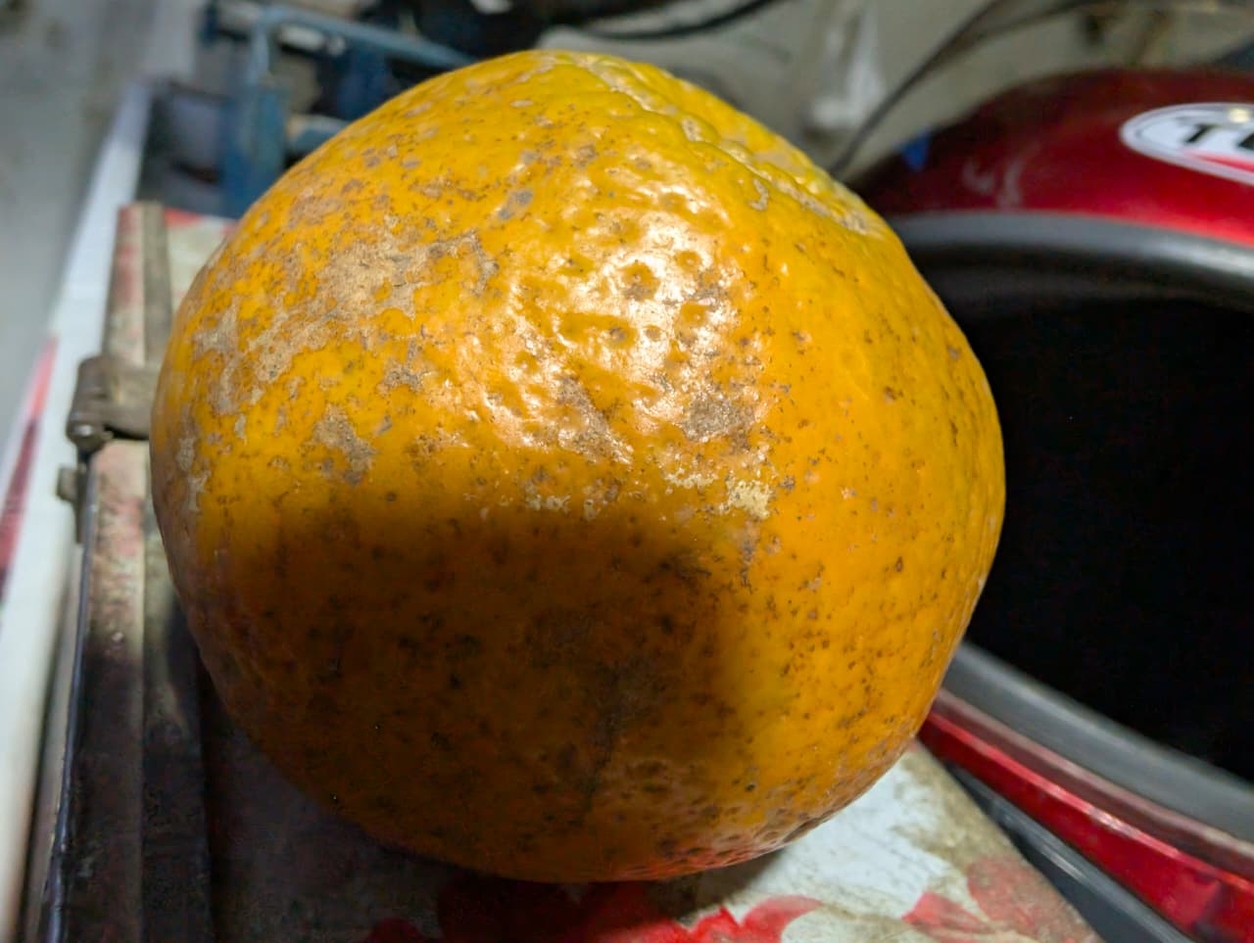orange: (66, 68, 1107, 744)
